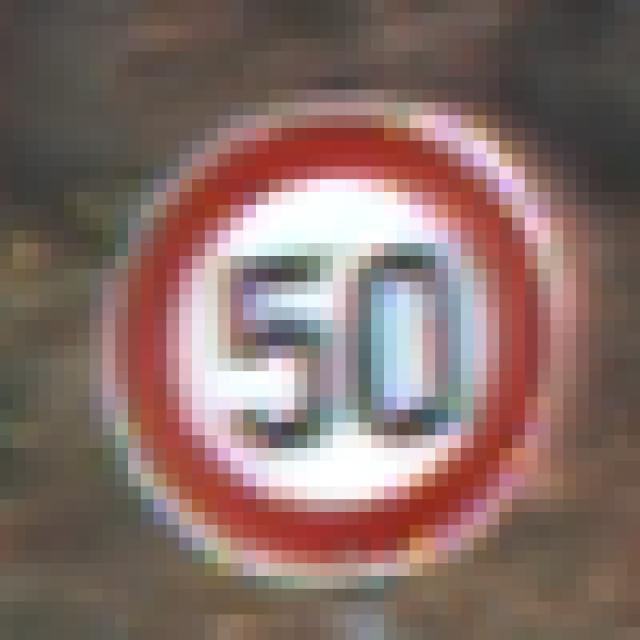Limite-50: (97, 94, 575, 596)
